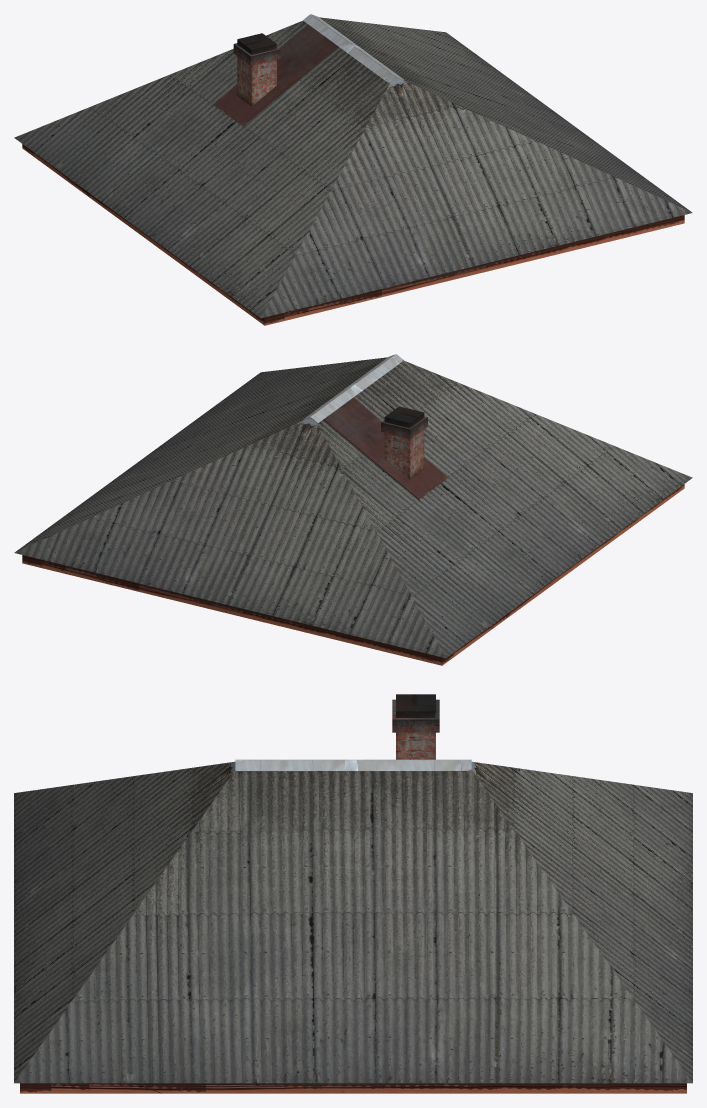
File: villagehouse28102020.FBX
3 views of the same model, one above another, from view 1: azimuth 30°, elevation 25°; view 2: azimuth 150°, elevation 25°; view 3: azimuth 270°, elevation 25° (orthographic). The views are drawn at different scales.
Parts seen in each view (by area): view 1: Box002; view 2: Box002; view 3: Box002.
Boxes of the visible parts, box(x1,y1,x2,y2) form: Box002: box(14, 14, 692, 325); Box002: box(14, 354, 692, 665); Box002: box(14, 694, 692, 1093).
Size of the model in its own units: 338 by 109 by 335.
